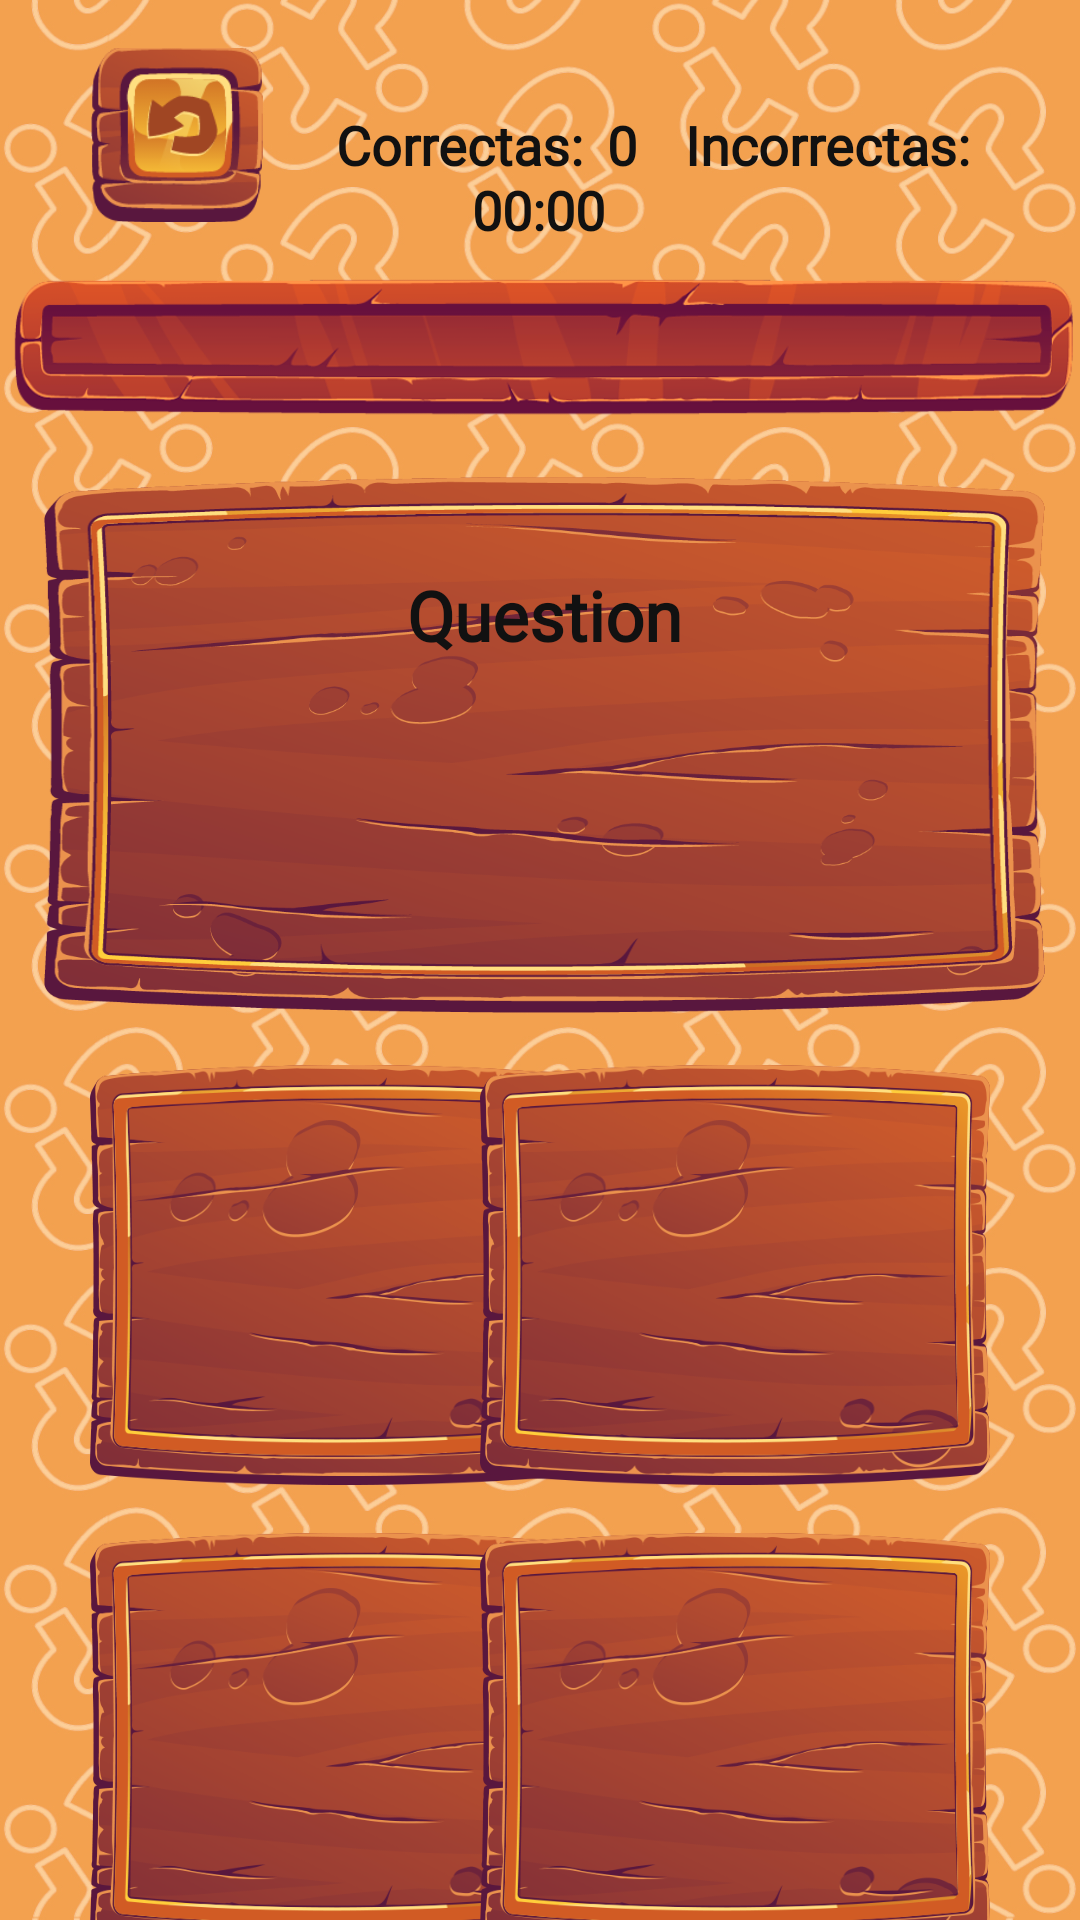

Screen size 1080px x 1920px. Icon name, then its box in pixels as {"left": x1, "top": y1, "right": x2, "bottom": y2}:
regreso: {"left": 90, "top": 48, "right": 264, "bottom": 222}
